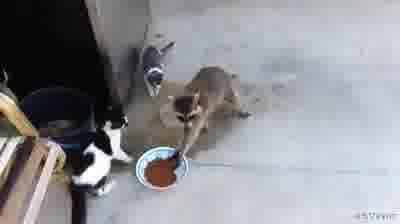raccoon: (172, 67, 253, 165)
